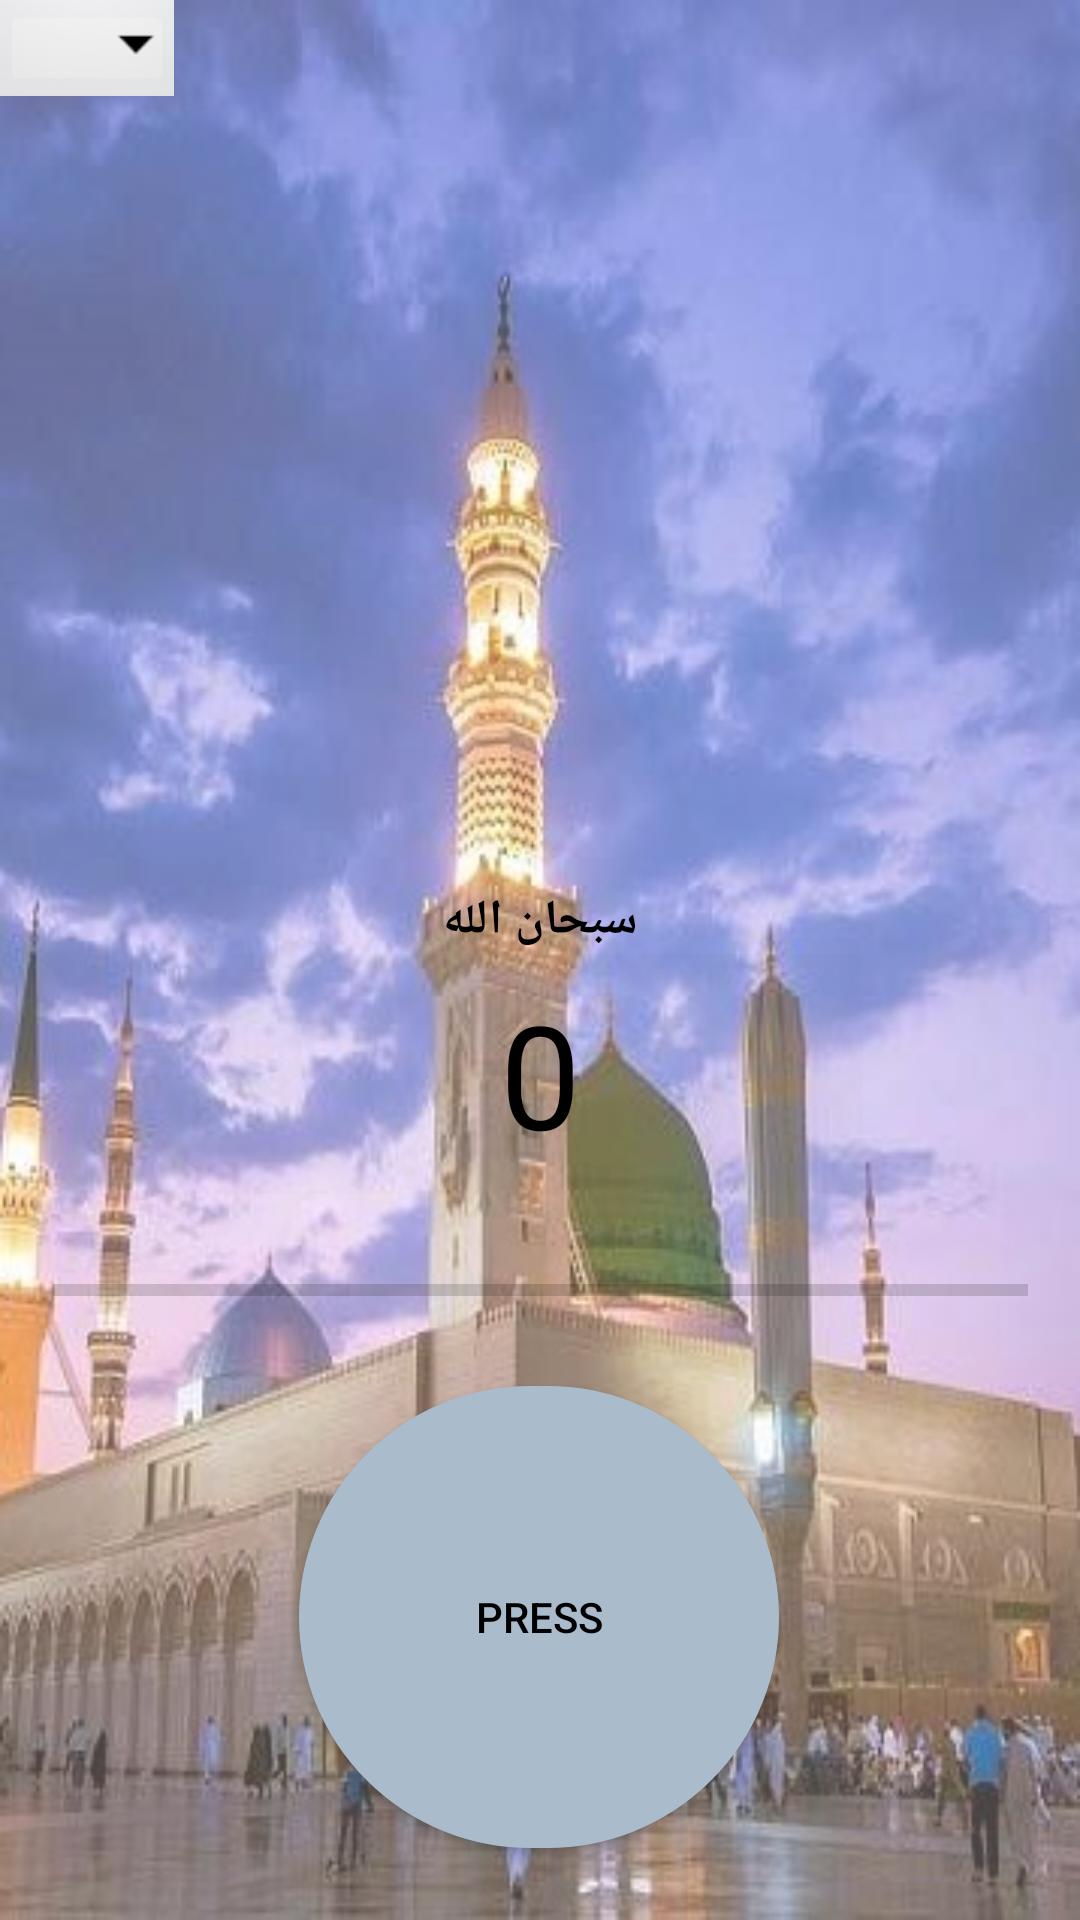

Where to tap for icons on this 1080px×1920px app screen, as (x,y):
dropdown: (87,48)
